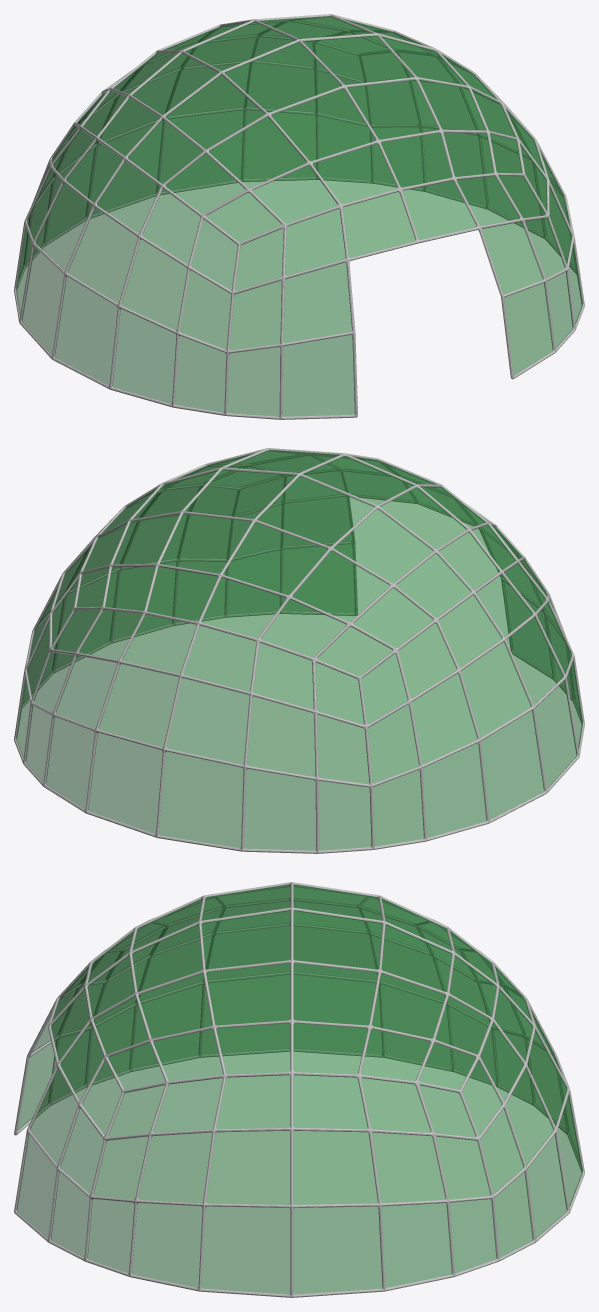
The model's file is Dome(3).fbx.
3 views of the same model, one above another, from view 1: azimuth 30°, elevation 25°; view 2: azimuth 150°, elevation 25°; view 3: azimuth 270°, elevation 25° (orthographic). The views are drawn at different scales.
Visible parts, largest first — view 1: Cube.008; view 2: Cube.008; view 3: Cube.008.
Boxes of the visible parts, <box> form: Cube.008: <box>14,14,584,419</box>; Cube.008: <box>14,448,584,853</box>; Cube.008: <box>14,882,584,1297</box>.
Bounding box in the file's own units: 433 × 218 × 422.
